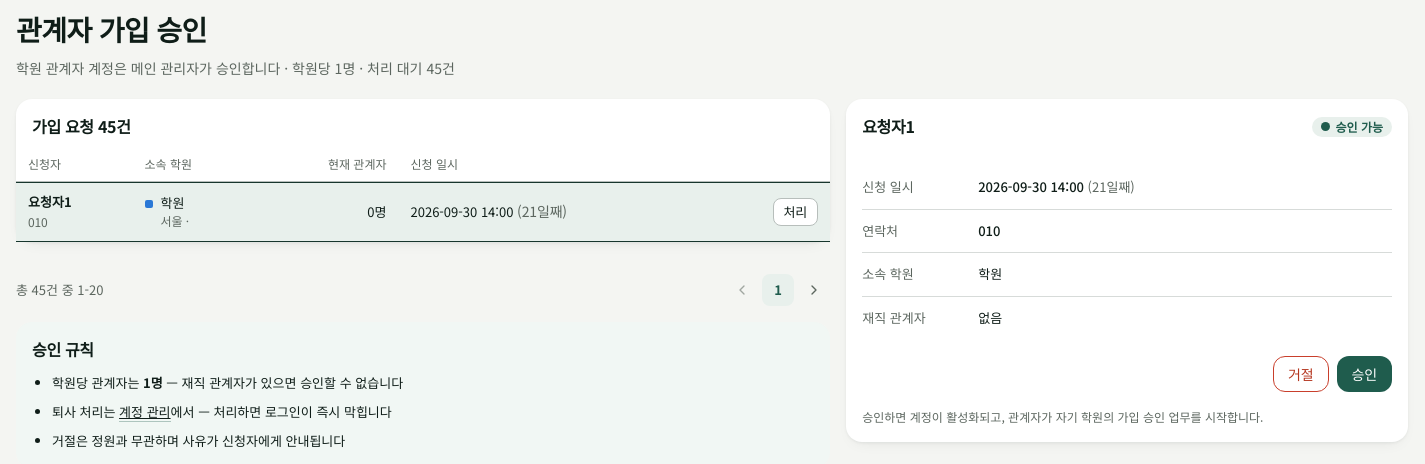
메인 관리자 목록 — 총 개수와 다음 쪽 › 가입 요청 — 머리글은 서버의 total_count 를 쓰고 [다음] 이 다음 쪽(page=1)을 읽는다
Expected: the heading "가입 요청 45건" is shown, [32,114,131,138]
Click the button named "다음" at point(814, 290), box [798,274,830,306]
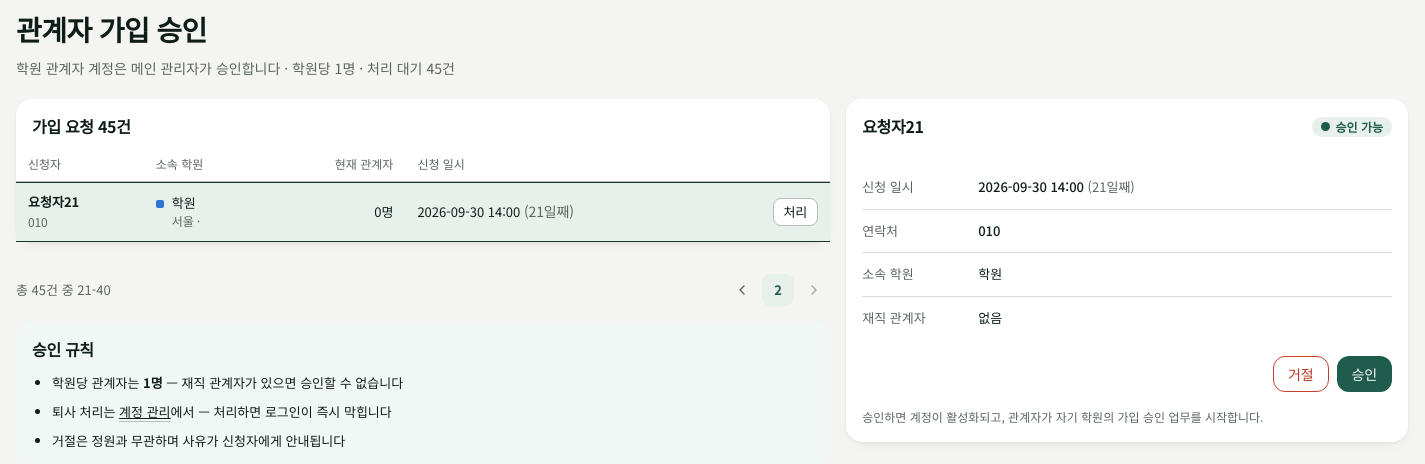
Expected: the text "요청자21" is shown, [28,192,79,211]
